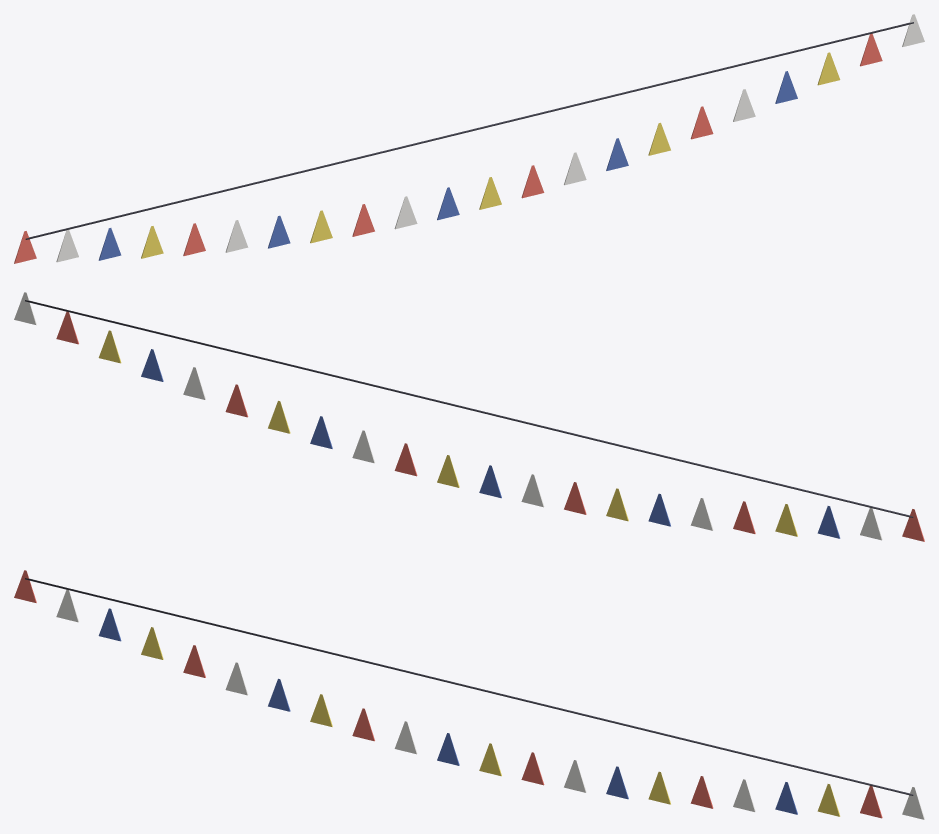
The model's file is Prop_Bunting.fbx.
3 views of the same model, one above another, from view 1: azimuth 30°, elevation 25°; view 2: azimuth 150°, elevation 25°; view 3: azimuth 330°, elevation 25° (orthographic).
Visible parts, largest first — view 1: Prop_Bunting; view 2: Prop_Bunting; view 3: Prop_Bunting.
Boxes of the visible parts, bbox=[...] form: Prop_Bunting: bbox=[14, 14, 924, 263]; Prop_Bunting: bbox=[14, 292, 924, 541]; Prop_Bunting: bbox=[14, 570, 924, 819].
Size of the model in its own units: 14.35 by 1.35 by 0.03.
